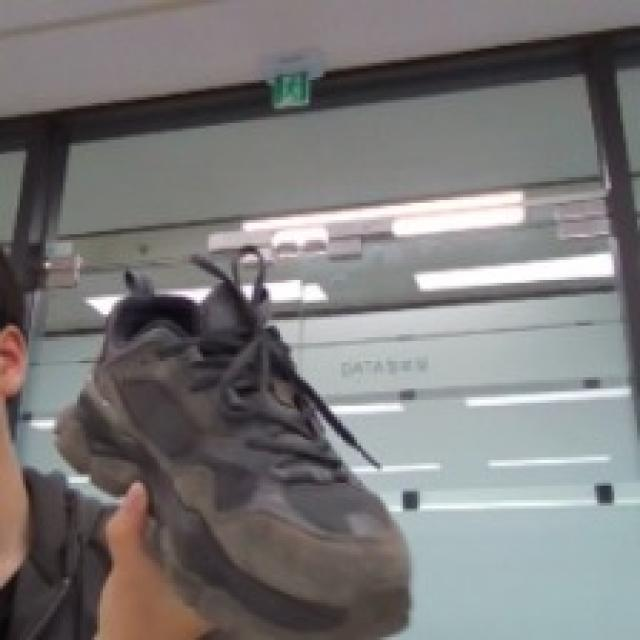shoes: (52, 246, 422, 640)
